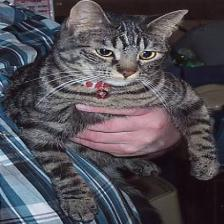cat: (55, 2, 189, 87)
